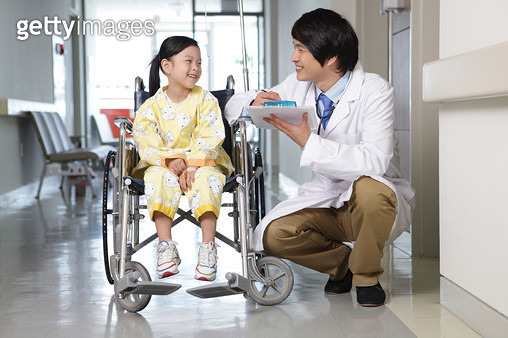wheelchair: (102, 36, 294, 310)
